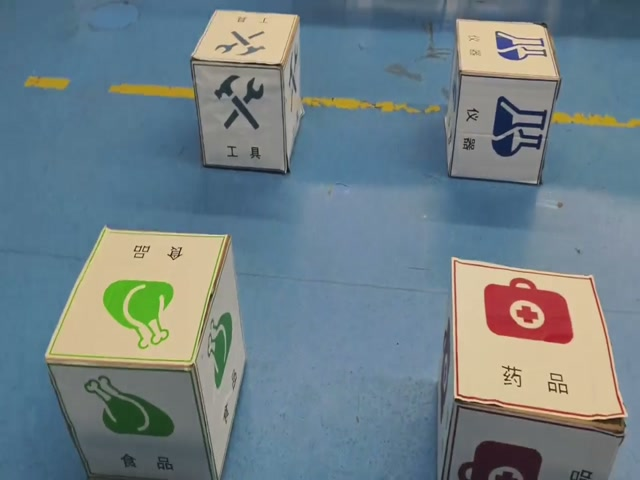Cube_food: (48, 223, 232, 371)
Cube_ins: (452, 17, 565, 87)
Cube_medicine: (441, 253, 631, 429)
Cube_tool: (188, 9, 301, 72)
